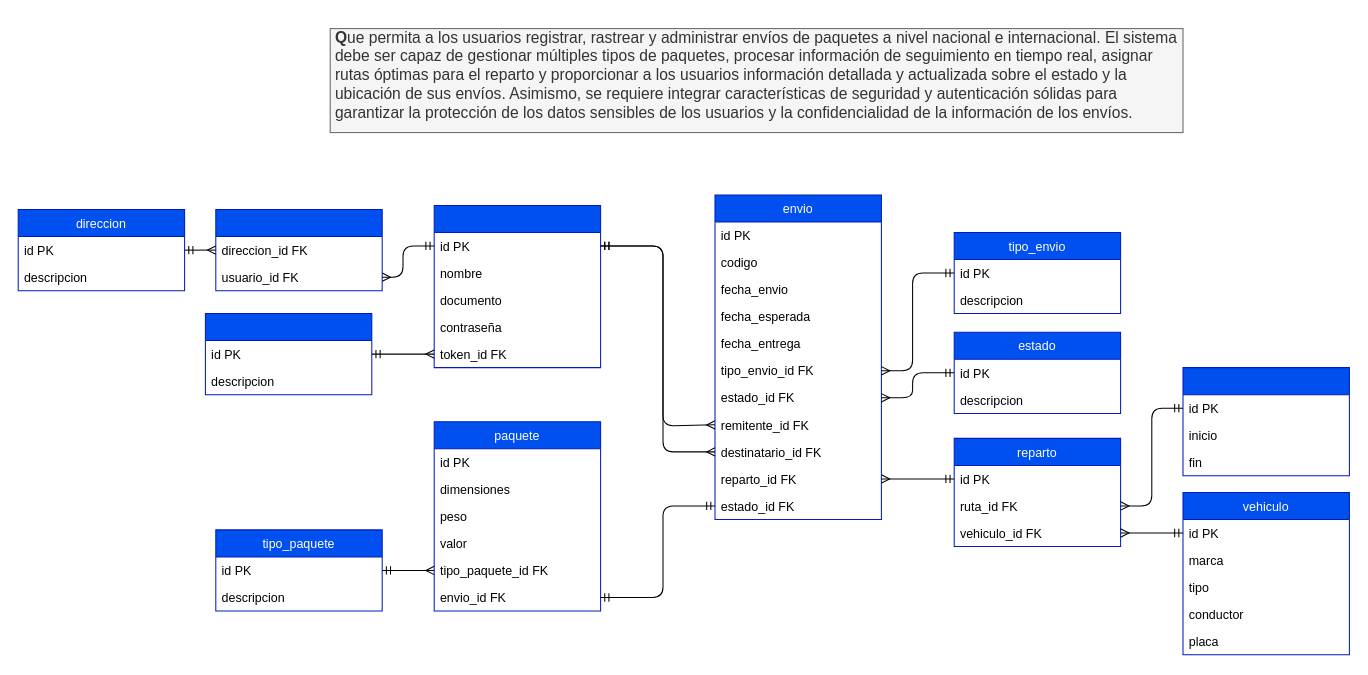
The diagram is 1368 pixels wide and 675 high, and some of its shapes have lost their labels. Here are the shapes that lost their labels. From the top down, the box of each, then its label:
(215, 209, 382, 291): direccion_usuario
(433, 204, 601, 368): usuario
(204, 313, 372, 395): token
(1182, 367, 1349, 476): ruta
